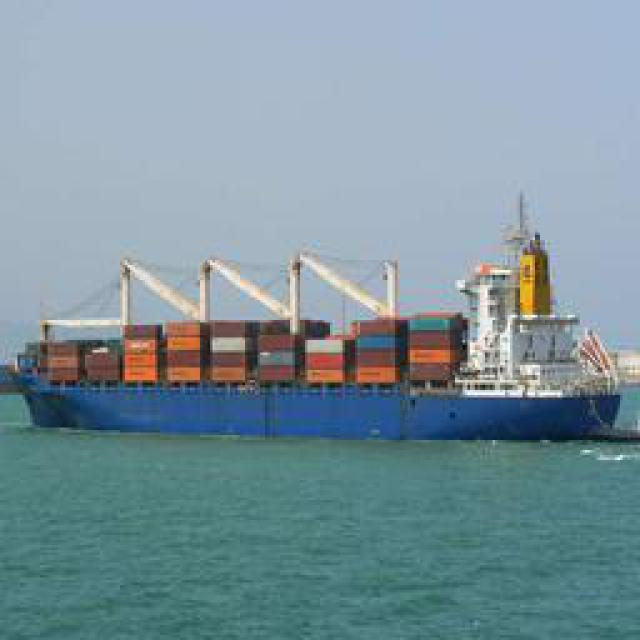Ship: (26, 192, 631, 442)
